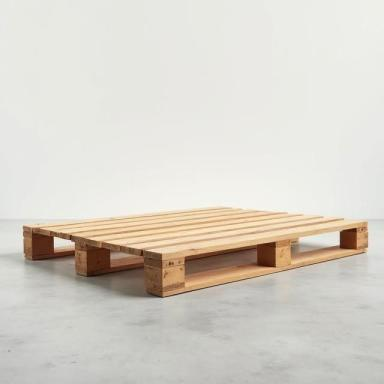pallet: (23, 206, 369, 298), (185, 245, 257, 286)
